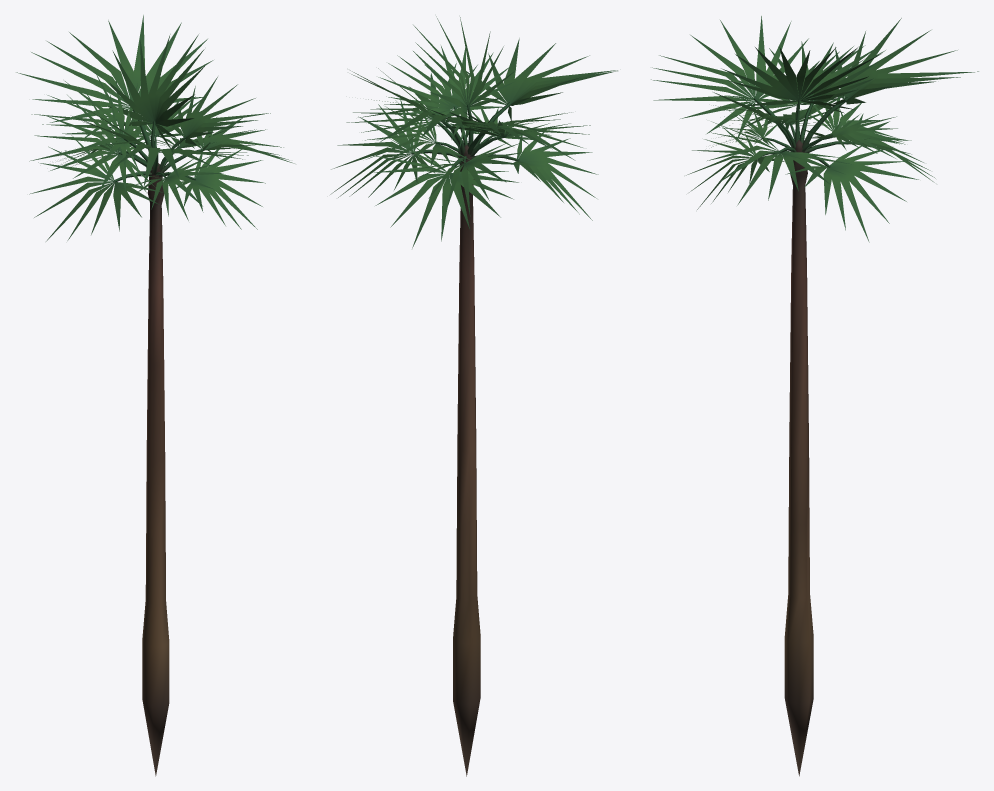
File: trees-palms-ferns-tall-palm_v1.glb
3 renders of one model, left to right at view 1: azimuth 30°, elevation 25°; view 2: azimuth 150°, elevation 25°; view 3: azimuth 270°, elevation 25°, orthographic. The views are drawn at different scales.
Visible parts, largest first — view 1: Tall Palm_v1; view 2: Tall Palm_v1; view 3: Tall Palm_v1.
Boxes of the visible parts, <box> form: Tall Palm_v1: <box>16,15,294,776</box>; Tall Palm_v1: <box>330,16,617,776</box>; Tall Palm_v1: <box>651,16,978,776</box>.
Bounding box in the file's own units: 6.68 × 20 × 7.97.
